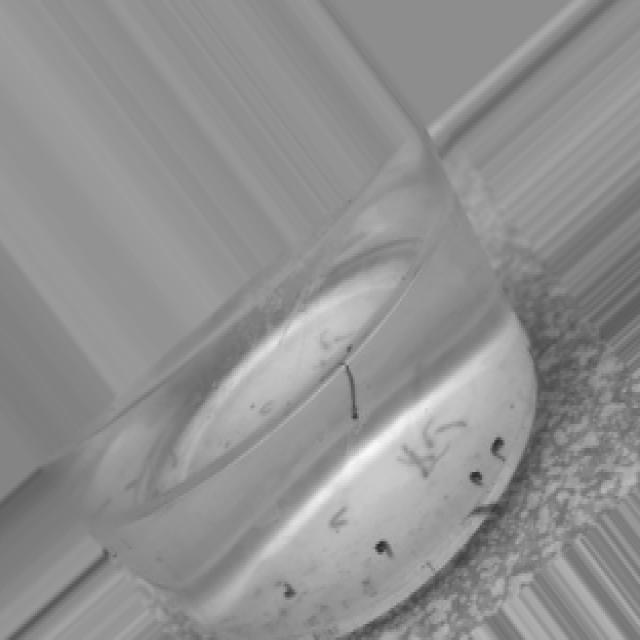larvas: (315, 341, 354, 384), (399, 439, 432, 482), (342, 362, 363, 422), (428, 442, 453, 472), (421, 415, 438, 455), (438, 418, 467, 433), (400, 454, 432, 465), (492, 436, 504, 464), (469, 505, 502, 515), (333, 505, 347, 527), (281, 578, 295, 598), (375, 542, 391, 556), (472, 469, 481, 487)
